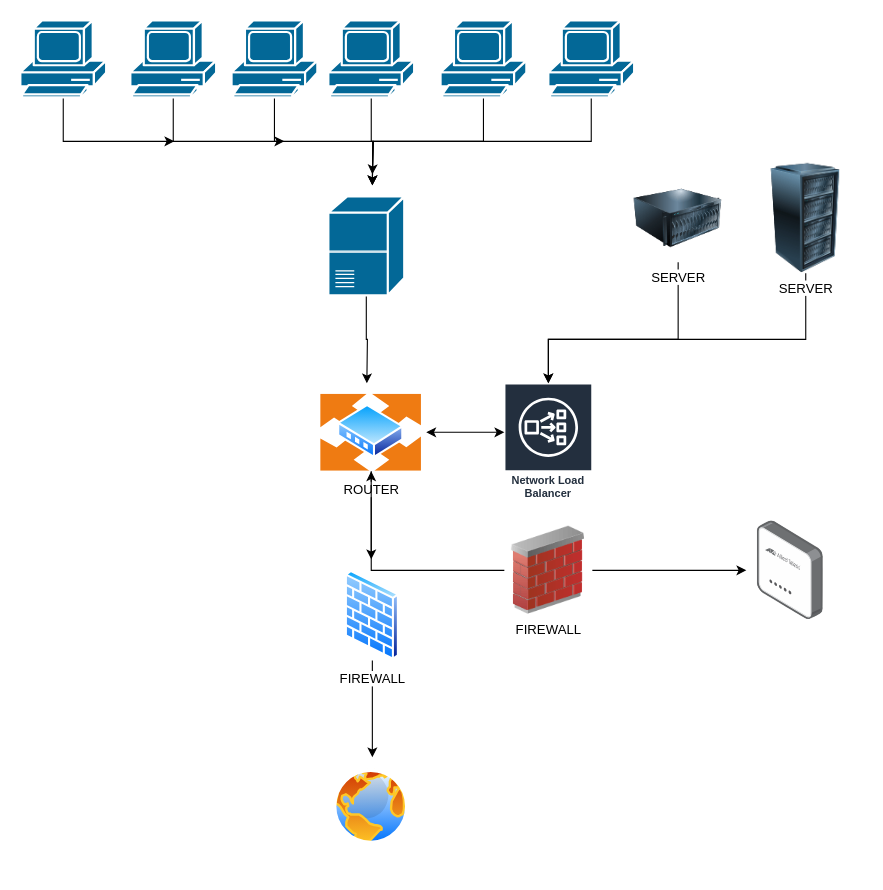
This 883x890 diagram has some shape labels left out. The centre of each missing label's shape, as x and y in pixels:
ACCESSPOINT: the point at 790,570
INTERNET: the point at 370,806
SWITCH: the point at 366,245
